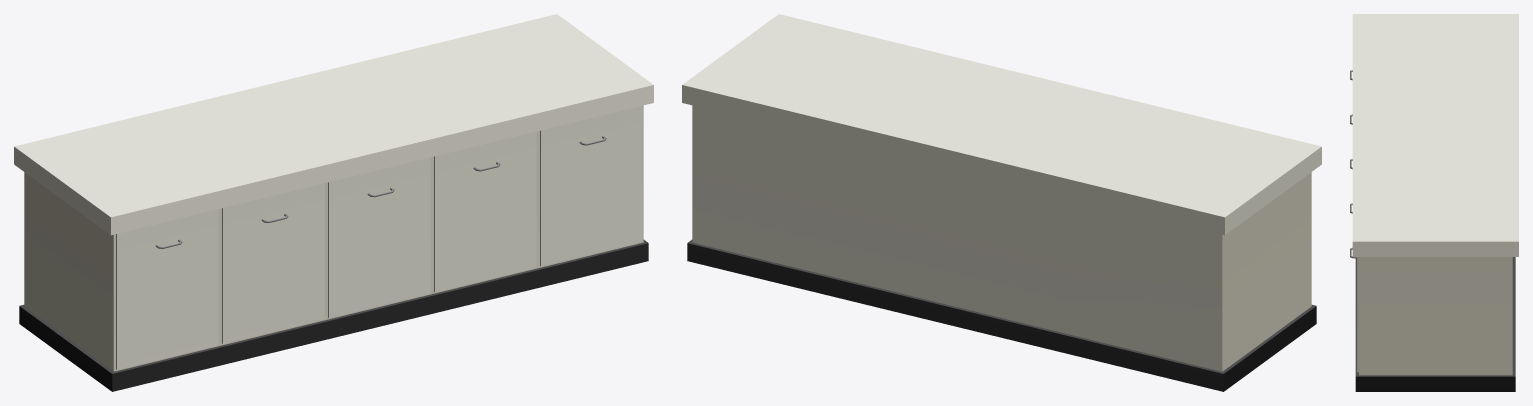
File: CR_caf_Cabinet_001.FBX
The picture shows the model from 3 angles, left to right: view 1: azimuth 30°, elevation 25°; view 2: azimuth 150°, elevation 25°; view 3: azimuth 270°, elevation 25°; orthographic projection. The views are drawn at different scales.
Visible parts, largest first — view 1: CR_caf_Cabinet_001; view 2: CR_caf_Cabinet_001; view 3: CR_caf_Cabinet_001.
Boxes of the visible parts, x1,y1,x2,y2 form: CR_caf_Cabinet_001: (14,14,653,391); CR_caf_Cabinet_001: (682,14,1321,391); CR_caf_Cabinet_001: (1350,14,1518,391).
Bounding box in the file's own units: 183 × 56.99 × 57.51.
